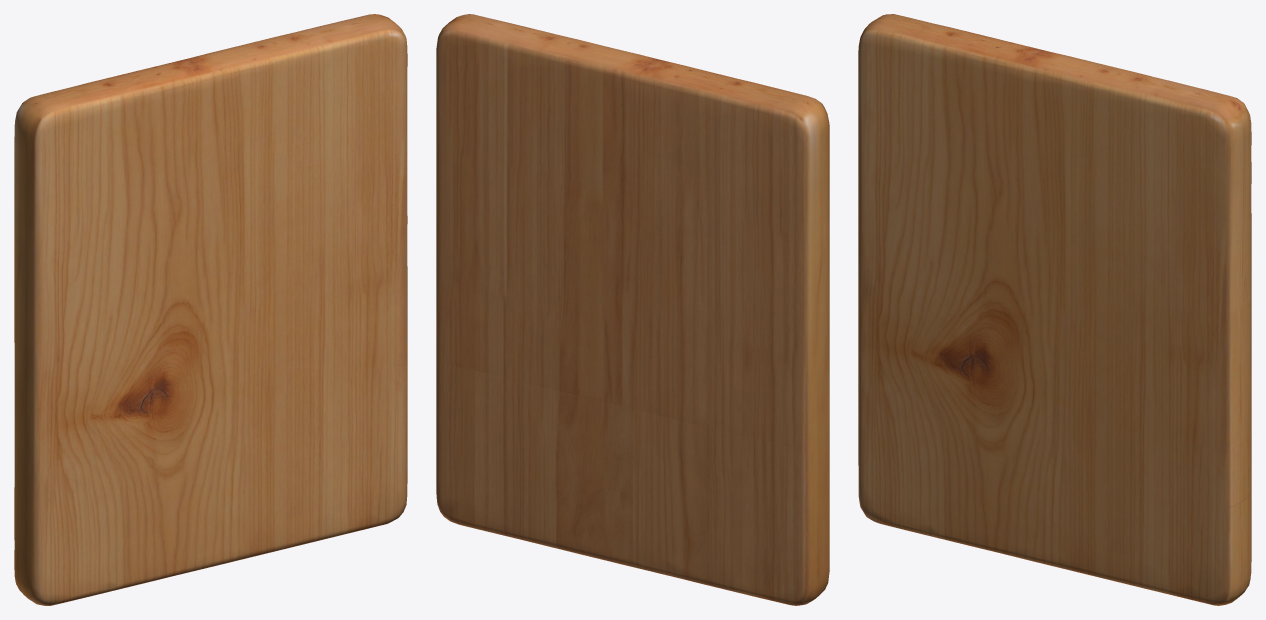
The model's file is Wooden_Simplicity_0718051907_texture.fbx.
3 views of the same model, side by side, from view 1: azimuth 30°, elevation 25°; view 2: azimuth 150°, elevation 25°; view 3: azimuth 330°, elevation 25° (orthographic).
Visible parts, largest first — view 1: Mesh1; view 2: Mesh1; view 3: Mesh1.
Boxes of the visible parts, bbox=[...] form: Mesh1: bbox=[14, 14, 407, 605]; Mesh1: bbox=[436, 14, 829, 605]; Mesh1: bbox=[858, 14, 1251, 605].
Bounding box in the file's own units: 158 × 200 × 16.91.
Materials: 1 (1 with a texture image).
